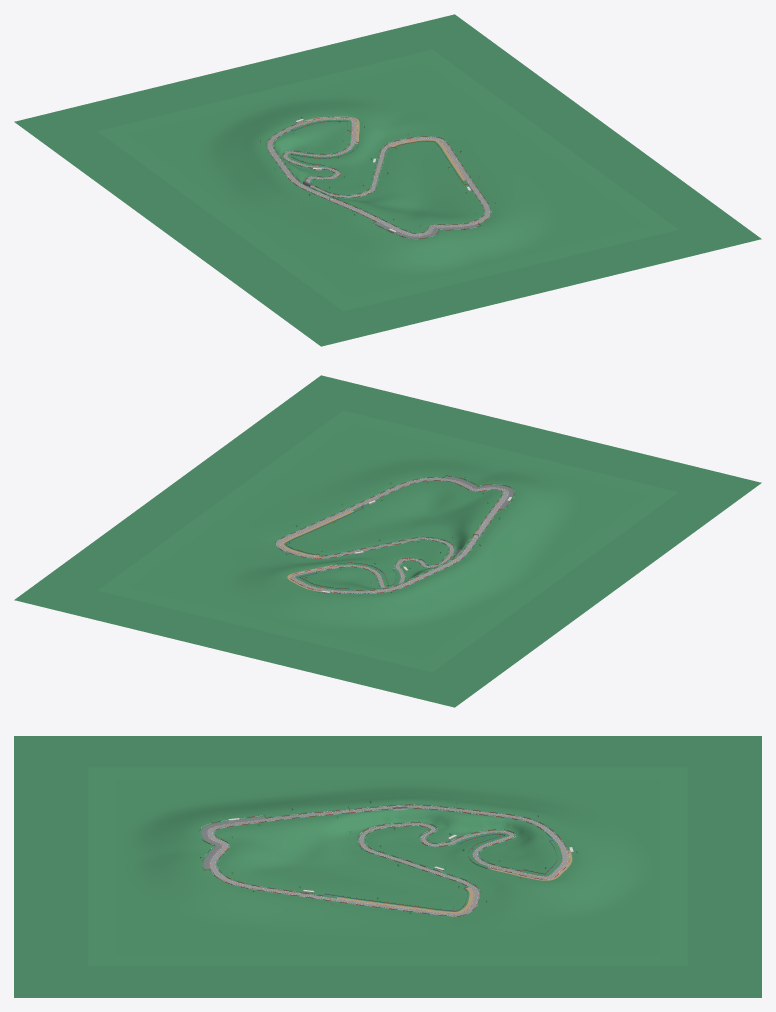
Rendered from interlagos.glb.
3 views of the same model, one above another, from view 1: azimuth 30°, elevation 25°; view 2: azimuth 150°, elevation 25°; view 3: azimuth 270°, elevation 25° (orthographic). The views are drawn at different scales.
Visible parts, largest first — view 1: terrain_infield, terrain_outskirts, terrain_verge, track_surface, grass_runoff_zones, track_runoff, continuous_safety_barriers, track_embankment, track_curbs; view 2: terrain_infield, terrain_outskirts, terrain_verge, track_surface, continuous_safety_barriers, grass_runoff_zones, track_runoff, track_embankment; view 3: terrain_infield, terrain_outskirts, terrain_verge, track_surface, grass_runoff_zones, continuous_safety_barriers, track_runoff, track_embankment, track_curbs, gravel_runoff_zones, asphalt_runoff_zones.
Part boxes in pixels (box(x1,y1,x2,y2)): terrain_infield: box(128, 62, 647, 298); terrain_outskirts: box(14, 14, 761, 346); terrain_verge: box(98, 49, 677, 311); track_surface: box(268, 118, 489, 236); grass_runoff_zones: box(272, 125, 391, 198); track_runoff: box(267, 118, 490, 236); continuous_safety_barriers: box(267, 117, 491, 239); track_embankment: box(266, 119, 491, 233); track_curbs: box(268, 118, 489, 236); terrain_infield: box(128, 423, 647, 659); terrain_outskirts: box(14, 375, 761, 707); terrain_verge: box(98, 410, 677, 672); track_surface: box(276, 478, 507, 592); continuous_safety_barriers: box(275, 475, 515, 593); grass_runoff_zones: box(320, 536, 473, 591); track_runoff: box(275, 478, 509, 593); track_embankment: box(274, 477, 502, 593); terrain_infield: box(115, 779, 660, 954); terrain_outskirts: box(14, 736, 761, 997); terrain_verge: box(88, 767, 687, 966); track_surface: box(208, 806, 567, 915); grass_runoff_zones: box(350, 807, 560, 887); continuous_safety_barriers: box(199, 804, 569, 916); track_runoff: box(206, 805, 568, 916); track_embankment: box(209, 805, 567, 916); track_curbs: box(207, 805, 567, 915); gravel_runoff_zones: box(337, 850, 572, 913); asphalt_runoff_zones: box(201, 816, 265, 869).
Size of the model in its own units: 1831 by 53.12 by 2210.
